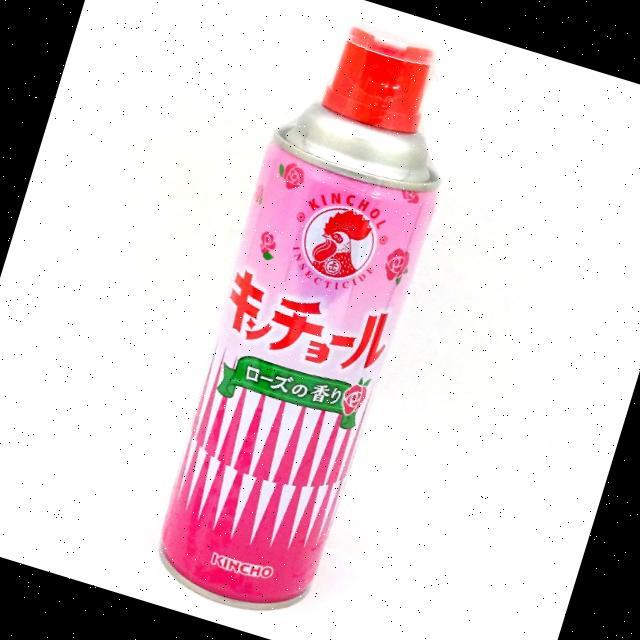chemical_spray_can: (160, 25, 439, 608)
